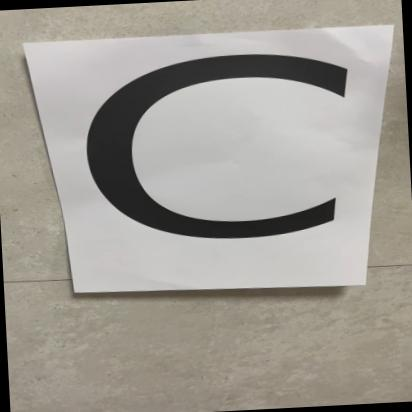seat: (23, 26, 378, 299)
